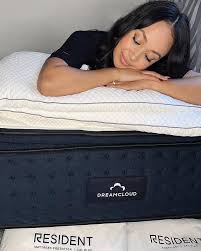bed-matress: (1, 55, 201, 230)
